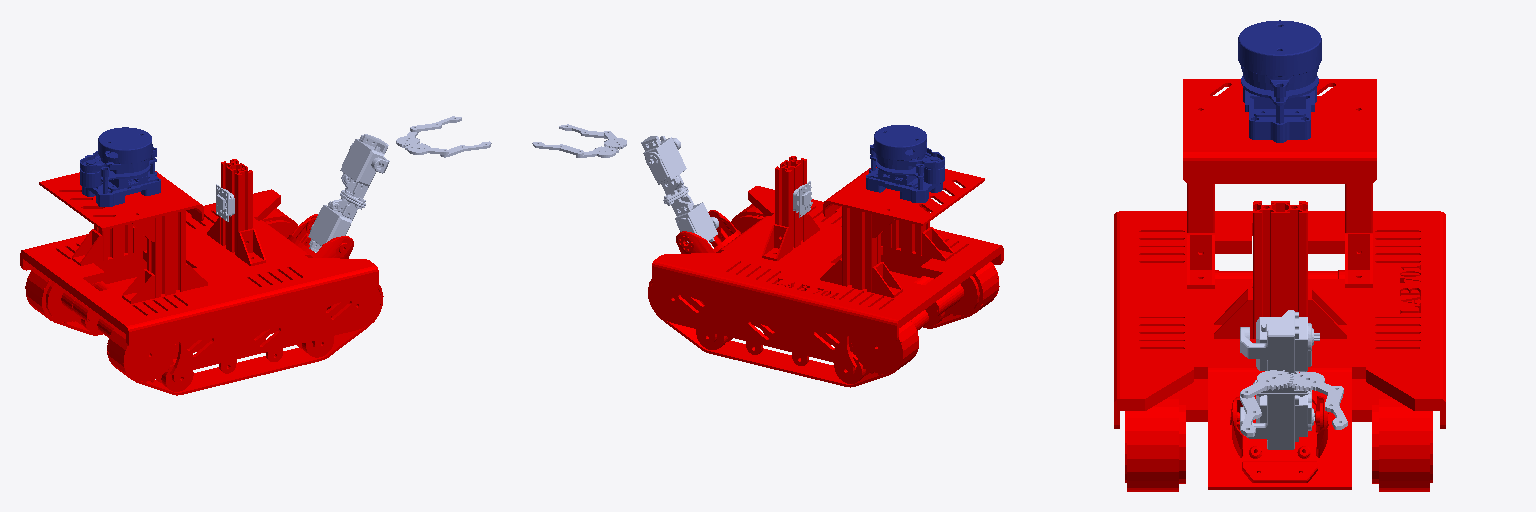
--- What the picture shows (computed from the rendered views, not written in the file) ---
The picture shows the robot from 3 angles, left to right: view 1: azimuth 30°, elevation 25°; view 2: azimuth 150°, elevation 25°; view 3: azimuth 270°, elevation 25°; orthographic projection.
Robot: tank_robot5 — 12 links, 11 joints (2 revolute, 6 continuous, 3 fixed); root link base_link; default pose: every joint at zero.
Links seen in each view (by area): view 1: base_link, lidar_link, link1_link, gripper_right_link, gripper_left_link, gps_link; view 2: base_link, lidar_link, link1_link, gripper_left_link, gripper_right_link; view 3: base_link, lidar_link, link1_link, gripper_right_link, gripper_left_link.
Link boxes in pixels (x1,y1,x2,y2): base_link: (20, 159, 383, 395); lidar_link: (80, 127, 160, 206); link1_link: (308, 134, 389, 252); gripper_right_link: (405, 141, 491, 157); gripper_left_link: (396, 116, 461, 147); gps_link: (216, 184, 234, 221); base_link: (648, 156, 1003, 387); lidar_link: (866, 125, 944, 202); link1_link: (641, 136, 718, 246); gripper_left_link: (532, 142, 618, 157); gripper_right_link: (559, 124, 626, 149); base_link: (1114, 79, 1445, 491); lidar_link: (1238, 20, 1321, 142); link1_link: (1240, 310, 1319, 449); gripper_right_link: (1240, 370, 1293, 436); gripper_left_link: (1291, 372, 1347, 429).
Bounding box of the posed robot: 0.5259 × 0.24 × 0.2713 m (x, y, z).
Meshes: 12 distinct files referenced, 6 mesh visuals loaded (6 binary STL); not drawn: 6 (reference not matched to a file when rendering).

robot.urdf — tank_robot5:
<?xml version="1.0" encoding="utf-8"?>
<!-- This URDF was automatically created by SolidWorks to URDF Exporter! Originally created by Stephen Brawner ([email redacted])
 	Commit Version: 1.6.0-4-g7f85cfe  Build Version: 1.6.7995.38578
 	For more information, please see http://wiki.ros.org/sw_urdf_exporter -->
<robot
  name="tank_robot5">

  <!-- Base link -->
  <link
	name="base_link">
	<inertial>
  	<origin
    	xyz="0.000101860296610273 0.000383653908917814 0.077831584172523"
    	rpy="0 0 0" />
  	<mass
    	value="2.09733338044362" />
  	<inertia
    	ixx="0.00658871302788378"
    	ixy="-6.33493412731475E-06"
    	ixz="0.000279659251384072"
    	iyy="0.0119849438490807"
    	iyz="1.71666235498634E-06"
    	izz="0.0173418955344604" />
	</inertial>
	<visual>
  	<origin
    	xyz="0 0 0"
    	rpy="0 0 0" />
  	<geometry>
    	<mesh
      	filename="package://tank_robot5/meshes/base_link.STL" />
  	</geometry>
  	<material
    	name="">
    	<color
      	rgba="1 0 0 1" />
  	</material>
	</visual>
	<collision>
  	<origin
    	xyz="0 0 0"
    	rpy="0 0 0" />
  	<geometry>
    	<mesh
      	filename="package://tank_robot5/meshes/base_link.STL" />
  	</geometry>
	</collision>
  </link>
 <gazebo reference="base_link">
  <material>Gazebo/Green</material>
</gazebo>

 
  <!-- wheel left1 -->
  <link
	name="wheel_left1_link">
	<inertial>
  	<origin
    	xyz="-5.55111512312578E-17 4.16333634234434E-17 0.0178230616302186"
    	rpy="0 0 0" />
  	<mass
    	value="0.0414808039998362" />
  	<inertia
    	ixx="1.26297041000083E-05"
    	ixy="-2.30093800126185E-38"
    	ixz="-3.52660070687731E-39"
    	iyy="1.26297041000083E-05"
    	iyz="-5.77601258280972E-22"
    	izz="1.23455181234334E-05" />
	</inertial>
	<visual>
  	<origin
    	xyz="0 0 0"
    	rpy="0 0 0" />
  	<geometry>
    	<mesh
      	filename="package://tank_robot5/meshes/wheel_left1_link.STL" />
  	</geometry>
  	<material
    	name="">
    	<color
      	rgba="0.792156862745098 0.819607843137255 0.933333333333333 1" />
  	</material>
	</visual>
	<collision>
  	<origin
    	xyz="0 0 0"
    	rpy="0 0 0" />
  	<geometry>
    	<mesh
      	filename="package://tank_robot5/meshes/wheel_left1_link.STL" />
  	</geometry>
	</collision>
  </link>
  
   <gazebo reference="wheel_left1_link">
  <material>Gazebo/Green</material>
</gazebo>


  <joint
	name="wheel_left1_joint"
	type="continuous">
	<origin
  	xyz="0.030040943208751 0.107 0.020999720595931"
  	rpy="1.5707963267949 0 0" />
	<parent
  	link="base_link" />
	<child
  	link="wheel_left1_link" />
	<axis
  	xyz="0 0 1" />
  </joint>
 
	<!-- wheel left2 -->
  <link
	name="wheel_left2_link">
	<inertial>
  	<origin
    	xyz="-2.77555756156289E-17 4.16333634234434E-16 0.0178230616302186"
    	rpy="0 0 0" />
  	<mass
    	value="0.0414808039998362" />
  	<inertia
    	ixx="1.26297041000083E-05"
    	ixy="-1.00317351992554E-22"
    	ixz="-1.58990528709187E-21"
    	iyy="1.26297041000083E-05"
    	iyz="4.75821462374673E-22"
    	izz="1.23455181234334E-05" />
	</inertial>
	<visual>
  	<origin
    	xyz="0 0 0"
    	rpy="0 0 0" />
  	<geometry>
    	<mesh
      	filename="package://tank_robot5/meshes/wheel_left2_link.STL" />
  	</geometry>
  	<material
    	name="">
    	<color
      	rgba="0.792156862745098 0.819607843137255 0.933333333333333 1" />
  	</material>
	</visual>
	<collision>
  	<origin
    	xyz="0 0 0"
    	rpy="0 0 0" />
  	<geometry>
    	<mesh
      	filename="package://tank_robot5/meshes/wheel_left2_link.STL" />
  	</geometry>
	</collision>
  </link>
  
     <gazebo reference="wheel_left2_link">
  <material>Gazebo/Green</material>
</gazebo>
  <joint
	name="wheel_left2_joint"
	type="continuous">
	<origin
  	xyz="-0.029959056791249 0.1065 0.0209997205959308"
  	rpy="1.5707963267949 0 0" />
	<parent
  	link="base_link" />
	<child
  	link="wheel_left2_link" />
	<axis
  	xyz="0 0 1" />
  </joint>
 
	<!-- wheel right1 -->
  <link
	name="wheel_right1_link">
	<inertial>
  	<origin
    	xyz="0 1.38777878078145E-17 -0.0171769383697813"
    	rpy="0 0 0" />
  	<mass
    	value="0.0414808039998362" />
  	<inertia
    	ixx="1.26297041000083E-05"
    	ixy="-2.67045944210272E-22"
    	ixz="-4.90527107634727E-22"
    	iyy="1.26297041000083E-05"
    	iyz="4.50151290698444E-22"
    	izz="1.23455181234334E-05" />
	</inertial>
	<visual>
  	<origin
    	xyz="0 0 0"
    	rpy="0 0 0" />
  	<geometry>
    	<mesh
      	filename="package://tank_robot5/meshes/wheel_right1_link.STL" />
  	</geometry>
  	<material
    	name="">
    	<color
      	rgba="0.792156862745098 0.819607843137255 0.933333333333333 1" />
  	</material>
	</visual>
	<collision>
  	<origin
    	xyz="0 0 0"
    	rpy="0 0 0" />
  	<geometry>
    	<mesh
      	filename="package://tank_robot5/meshes/wheel_right1_link.STL" />
  	</geometry>
	</collision>
  </link>
  
     <gazebo reference="wheel_right1_link">
  <material>Gazebo/Green</material>
</gazebo>


  <joint
	name="wheel_right1_joint"
	type="continuous">
	<origin
  	xyz="0.030040943208751 -0.107 0.020999720595931"
  	rpy="1.5707963267949 0 0" />
	<parent
  	link="base_link" />
	<child
  	link="wheel_right1_link" />
	<axis
  	xyz="0 0 1" />
  </joint>
 
	<!-- wheel right2 -->
  <link
	name="wheel_right2_link">
	<inertial>
  	<origin
    	xyz="8.32667268468867E-17 -2.77555756156289E-17 -0.0171769383697813"
    	rpy="0 0 0" />
  	<mass
    	value="0.0414808039998362" />
  	<inertia
    	ixx="1.26297041000083E-05"
    	ixy="-1.01609821699666E-22"
    	ixz="-4.9438728382664E-22"
    	iyy="1.26297041000083E-05"
    	iyz="4.50151290698444E-22"
    	izz="1.23455181234333E-05" />
	</inertial>
	<visual>
  	<origin
    	xyz="0 0 0"
    	rpy="0 0 0" />
  	<geometry>
    	<mesh
      	filename="package://tank_robot5/meshes/wheel_right2_link.STL" />
  	</geometry>
  	<material
    	name="">
    	<color
      	rgba="0.792156862745098 0.819607843137255 0.933333333333333 1" />
  	</material>
	</visual>
	<collision>
  	<origin
    	xyz="0 0 0"
    	rpy="0 0 0" />
  	<geometry>
    	<mesh
      	filename="package://tank_robot5/meshes/wheel_right2_link.STL" />
  	</geometry>
	</collision>
  </link>
  
      <gazebo reference="wheel_right2_link">
  <material>Gazebo/Green</material>
</gazebo>



  <joint
	name="wheel_right2_joint"
	type="continuous">
	<origin
  	xyz="-0.029959056791249 -0.106 0.0209997205959308"
  	rpy="1.5707963267949 0 0" />
	<parent
  	link="base_link" />
	<child
  	link="wheel_right2_link" />
	<axis
  	xyz="0 0 1" />
  </joint>
 
 
	<!-- link1 -->
  <link
	name="link1_link">
	<inertial>
  	<origin
    	xyz="0.0268208044691256 0.0422548226451087 0.0233110224033556"
    	rpy="0 0 0" />
  	<mass
    	value="0.0900303480349773" />
  	<inertia
    	ixx="2.98564994728307E-05"
    	ixy="-8.79866117290079E-06"
    	ixz="4.92242513586741E-08"
    	iyy="1.96056816874544E-05"
    	iyz="-2.82959641151995E-08"
    	izz="2.63103174477672E-05" />
	</inertial>
	<visual>
  	<origin
    	xyz="0 0 0"
    	rpy="0 0 0" />
  	<geometry>
    	<mesh
      	filename="package://tank_robot5/meshes/link1_link.STL" />
  	</geometry>
  	<material
    	name="">
    	<color
      	rgba="0.792156862745098 0.819607843137255 0.933333333333333 1" />
  	</material>
	</visual>
	<collision>
  	<origin
    	xyz="0 0 0"
    	rpy="0 0 0" />
  	<geometry>
    	<mesh
      	filename="package://tank_robot5/meshes/link1_link.STL" />
  	</geometry>
	</collision>
  </link>
 <gazebo reference="link1_link">
  <material>Gazebo/Red</material>
</gazebo>
 
  <joint
	name="link1_joint"
	type="continuous">
	<origin
  	xyz="0.16213799320936 0.0257504431070633 0.0906250725210088"
  	rpy="1.5707963267949 0 0" />
	<parent
  	link="base_link" />
	<child
  	link="link1_link" />
	<axis
  	xyz="0 0 1" />

    
  </joint>
 
	<!-- link2 -->
  <link
	name="link2_link">
	<inertial>
  	<origin
    	xyz="0.0469696818776463 0.00539981149525653 0.0466363137970451"
    	rpy="0 0 0" />
  	<mass
    	value="0.0351997519899185" />
  	<inertia
    	ixx="1.40032536971721E-05"
    	ixy="9.59419108470623E-08"
    	ixz="4.42810505923508E-07"
    	iyy="1.73430493338146E-05"
    	iyz="-3.23606739251796E-08"
    	izz="5.06044486180057E-06" />
	</inertial>
	<visual>
  	<origin
    	xyz="0 0 0"
    	rpy="0 0 0" />
  	<geometry>
    	<mesh
      	filename="package://tank_robot5/meshes/link2_link.STL" />
  	</geometry>
  	<material
    	name="">
    	<color
      	rgba="0.792156862745098 0.819607843137255 0.933333333333333 1" />
  	</material>
	</visual>
	<collision>
  	<origin
    	xyz="0 0 0"
    	rpy="0 0 0" />
  	<geometry>
    	<mesh
      	filename="package://tank_robot5/meshes/link2_link.STL" />
  	</geometry>
	</collision>
  </link>
  
  
<gazebo reference="link2_link">
  <material>Gazebo/Black</material>
</gazebo>
  <joint
	name="link2_joint"
	type="continuous">
	<origin
  	xyz="0.0498323547482368 0.0866991142990867 -0.0177499999999998"
  	rpy="0 0 0" />
	<parent
  	link="link1_link" />
	<child
  	link="link2_link" />
	<axis
  	xyz="0 0 1" />
  	

    
  </joint>
 
<!-- Right Gripper Link -->
<link name="gripper_right_link">
	<inertial>
  	<origin xyz="0.0258780432117297 0.00454477654115379 -0.00213316144660119" rpy="0 0 0" />
  	<mass value="0.00366991044442369" />
  	<inertia ixx="1.65372374888769E-07" ixy="3.71309728414862E-09" ixz="-1.99929536232398E-22"
           	iyy="7.74324288386045E-07" iyz="-8.83604007636615E-24" izz="9.34191797608178E-07" />
	</inertial>
	<visual>
  	<origin xyz="0 0.0112 0" rpy="0 0 0.2" />
  	<geometry>
    	<mesh filename="package://tank_robot5/meshes/gripper_right_link.STL" />
  	</geometry>
  	<material name="">
    	<color rgba="0.792156862745098 0.819607843137255 0.933333333333333 1" />
  	</material>
	</visual>
	<collision>
  	<origin xyz="0 0 0" rpy="0 0 0" />
  	<geometry>
    	<mesh filename="package://tank_robot5/meshes/gripper_right_link.STL" />
  	</geometry>
	</collision>
</link>

<!-- Left Gripper Link -->
<link name="gripper_left_link">
	<inertial>
  	<origin xyz="0.0237830032837864 -0.0111667752319355 -0.00283618320258641" rpy="0 0 0" />
  	<mass value="0.00366991044442369" />
  	<inertia ixx="2.0530457650203E-07" ixy="1.5078460448041E-07" ixz="-1.88750622816007E-22"
           	iyy="7.34392086772784E-07" iyz="1.16721204276473E-22" izz="9.34191797608178E-07" />
	</inertial>
	<visual>
  	<origin xyz="0 0 0" rpy="0 0 0" />
  	<geometry>
    	<mesh filename="package://tank_robot5/meshes/gripper_left_link.STL" />
  	</geometry>
  	<material name="">
    	<color rgba="0.792156862745098 0.819607843137255 0.933333333333333 1" />
  	</material>
	</visual>
	<collision>
  	<origin xyz="0 0 0" rpy="0 0 0" />
  	<geometry>
    	<mesh filename="package://tank_robot5/meshes/gripper_left_link.STL" />
  	</geometry>
	</collision>
</link>

<!-- Single Control Joint (Master Joint) -->
<joint name="gripper_control_joint" type="revolute">
	<origin xyz="0.0628189456741686 -0.00780808751750425 0.0359" rpy="1.5707963267949 0 -0.028978387988715" />
	<parent link="link2_link" />
	<child link="gripper_right_link" /> <!-- Right gripper attached here -->
	<axis xyz="0 0 1" /> <!-- Rotate around Z-axis -->
	<limit lower="-1.5708" upper="1.5708" effort="50" velocity="0.5" /> <!-- ±90° -->
</joint>

<!-- Left Gripper Joint (Mimic Joint) -->
<joint name="gripper_left_joint" type="revolute">
	<origin xyz="0.0628662736353975 -0.00682437348245404 0.0222749999999998" rpy="1.5707963267949 0 -0.028978387988715" />
	<parent link="link2_link" />
	<child link="gripper_left_link" />
	<axis xyz="0 0 1" /> <!-- Same direction, but mimic will invert it -->
	<limit lower="-1.5708" upper="1.5708" effort="50" velocity="0.5" /> <!-- ±90° -->
	<!-- Mimic gripper_control_joint with opposite rotation -->
	<mimic joint="gripper_control_joint" multiplier="-1.0" offset="0.0" />
</joint>



  <link
	name="camera_link">
	<inertial>
  	<origin
    	xyz="0.00697855527730011 -1.06579532171414E-05 0.012468333507948"
    	rpy="0 0 0" />
  	<mass
    	value="0.107910438139434" />
  	<inertia
    	ixx="7.12550253062255E-05"
    	ixy="2.33932196779487E-08"
    	ixz="-4.92986158651601E-08"
    	iyy="7.71002569801307E-06"
    	iyz="2.44769054882994E-10"
    	izz="7.02567402877273E-05" />
	</inertial>
	<visual>
  	<origin
    	xyz="0 0 0"
    	rpy="0 0 0" />
  	<geometry>
    	<mesh
      	filename="package://tank_robot5/meshes/camera_link.STL" />
  	</geometry>
  	<material
    	name="">
    	<color
      	rgba="0.898039215686275 0.917647058823529 0.929411764705882 1" />
  	</material>
	</visual>
	<collision>
  	<origin
    	xyz="0 0 0"
    	rpy="0 0 0" />
  	<geometry>
    	<mesh
      	filename="package://tank_robot5/meshes/camera_link.STL" />
  	</geometry>
	</collision>
  </link>
  
      <gazebo reference="camera_link">
  <material>Gazebo/Blue</material>
</gazebo>

  <joint
	name="camera_joint"
	type="fixed">
	<origin
  	xyz="0.0398464983353151 -0.00077408377455257 0.227605789912602"
  	rpy="0 0 0" />
	<parent
  	link="base_link" />
	<child
  	link="camera_link" />
	<axis
  	xyz="0 0 0" />
  </joint>
  <link
	name="lidar_link">
	<inertial>
  	<origin
    	xyz="-0.00712869032004082 2.01051559332588E-05 -0.0398485169669899"
    	rpy="0 0 0" />
  	<mass
    	value="0.0988519659696647" />
  	<inertia
    	ixx="2.01670226712523E-05"
    	ixy="1.77520034791046E-08"
    	ixz="-2.26332784491913E-06"
    	iyy="5.01382792579843E-05"
    	iyz="7.53617057520781E-09"
    	izz="6.58296362275907E-05" />
	</inertial>
	<visual>
  	<origin
    	xyz="0 0 0"
    	rpy="0 0 0" />
  	<geometry>
    	<mesh
      	filename="package://tank_robot5/meshes/lidar_link.STL" />
  	</geometry>
  	<material
    	name="">
    	<color
      	rgba="0.188235294117647 0.231372549019608 0.588235294117647 1" />
  	</material>
	</visual>
	<collision>
  	<origin
    	xyz="0 0 0"
    	rpy="0 0 0" />
  	<geometry>
    	<mesh
      	filename="package://tank_robot5/meshes/lidar_link.STL" />
  	</geometry>
	</collision>
  </link>
  <joint
	name="lidar_joint"
	type="fixed">
	<origin
  	xyz="-0.0976627823325977 0.000970509112063533 0.271318441191774"
  	rpy="0 0 0" />
	<parent
  	link="base_link" />
	<child
  	link="lidar_link" />
	<axis
  	xyz="0 0 0" />
  </joint>
  <link
	name="gps_link">
	<inertial>
  	<origin
    	xyz="0.00710120952678969 0.00194546696155284 0.000109480095992986"
    	rpy="0 0 0" />
  	<mass
    	value="0.00492734269723872" />
  	<inertia
    	ixx="5.30721988277249E-07"
    	ixy="-1.25162605765906E-09"
    	ixz="-5.82609648436738E-10"
    	iyy="2.50348487806842E-07"
    	iyz="4.052528259813E-09"
    	izz="2.92177952785927E-07" />
	</inertial>
	<visual>
  	<origin
    	xyz="0 0 0"
    	rpy="0 0 0" />
  	<geometry>
    	<mesh
      	filename="package://tank_robot5/meshes/gps_link.STL" />
  	</geometry>
  	<material
    	name="">
    	<color
      	rgba="0.792156862745098 0.819607843137255 0.933333333333333 1" />
  	</material>
	</visual>
	<collision>
  	<origin
    	xyz="0 0 0"
    	rpy="0 0 0" />
  	<geometry>
    	<mesh
      	filename="package://tank_robot5/meshes/gps_link.STL" />
  	</geometry>
	</collision>
  </link>
  
    <gazebo reference="gps_link">
  <material>Gazebo/White</material>
</gazebo>
  <joint
	name="gps_joint"
	type="fixed">
	<origin
  	xyz="0.023148376737541 0.000897373531776158 0.165070035372167"
  	rpy="-1.5707963267949 0 0" />
	<parent
  	link="base_link" />
	<child
  	link="gps_link" />
	<axis
  	xyz="0 0 0" />
  </joint>
 
 
 
 
<gazebo> 
  <!-- Bắt đầu khai báo cấu hình cho Gazebo -->
  
  <plugin name="gps_plugin" filename="libhector_gazebo_ros_gps.so"> 
    <!-- Khai báo plugin GPS sử dụng thư viện "libhector_gazebo_ros_gps.so" -->
    
    <alwaysOn>true</alwaysOn> 
    <!-- Luôn kích hoạt plugin GPS, ngay cả khi không có client nào subscribe -->

    <updateRate>10.0</updateRate> 
    <!-- Tần suất cập nhật dữ liệu GPS là 10 Hz (10 lần/giây) -->

    <bodyName>base_link</bodyName> 
    <!-- Xác định liên kết (link) mà cảm biến GPS gắn vào (ở đây là "base_link") -->
    
    <topicName>/gps/fix</topicName> 
    <!-- Tên topic ROS xuất ra dữ liệu vị trí GPS (kiểu sensor_msgs/NavSatFix) -->

    <velocityTopicName>/gps/fix_velocity</velocityTopicName> 
    <!-- Tên topic ROS xuất ra dữ liệu vận tốc (kiểu geometry_msgs/Vector3Stamped) -->
    
    <referenceLatitude>21.028511</referenceLatitude> 
    <!-- Giá trị vĩ độ gốc (ở đây là 21.028511 - tọa độ ở Hà Nội, Việt Nam) -->
    
    <referenceLongitude>105.804817</referenceLongitude> 
    <!-- Giá trị kinh độ gốc (ở đây là 105.804817 - tọa độ ở Hà Nội, Việt Nam) -->

    <referenceAltitude>10.0</referenceAltitude> 
    <!-- Độ cao gốc so với mực nước biển (10 mét) -->

    <drift>0.001 0.001 0.001</drift> 
    <!-- Mô phỏng độ lệch (trôi) của tín hiệu GPS theo các trục X, Y, Z (đơn vị: mét) -->

    <gaussianNoise>0.05 0.05 0.05</gaussianNoise> 
    <!-- Mô phỏng nhiễu Gauss (ngẫu nhiên) trên các trục X, Y, Z (đơn vị: mét) -->
    
  </plugin> 
  <!-- Kết thúc khai báo plugin GPS -->
  
</gazebo> 
<!-- Kết thúc phần cấu hình cho Gazebo -->


<gazebo reference="lidar_link">
   <material>Gazebo/FlatBlack</material>
   
   <sensor type="ray" name="head_rplidar_sensor">
      <pose>0 0 0 0 0 0</pose>
      <visualize>true</visualize>
      <update_rate>10.0</update_rate> <!-- Giảm xuống 10 Hz -->
      
      <ray>
         <scan>
            <horizontal>
               <samples>360</samples> <!-- Tăng lên 360 mẫu -->
               <resolution>1</resolution>
               <min_angle>-1.5708</min_angle>
               <max_angle>1.5708</max_angle>
            </horizontal>
         </scan>
         
         <range>
            <min>0.120</min>
            <max>10</max>
            <resolution>0.015</resolution>
         </range>
      </ray>
      
      <plugin name="gazebo_ros_head_rplidar_controller" filename="libgazebo_ros_laser.so">
         <topicName>scan</topicName>
         <frameName>lidar_link</frameName>
         <gaussianNoise>0.01</gaussianNoise>
      </plugin>
   </sensor>
</gazebo>
<!-- Plugin Camera -->
<gazebo reference="camera_link">  <!-- Gắn cảm biến vào liên kết (link) có tên 'camera_link' -->
  <sensor type="camera" name="camera_sensor"> <!-- Khai báo một cảm biến loại camera với tên 'camera_sensor' -->
    
    <update_rate>30</update_rate> <!-- Tần suất cập nhật của camera là 30 Hz (30 khung hình/giây) -->
    
    <camera> <!-- Bắt đầu cấu hình các thông số cho camera -->
      
      <horizontal_fov>1.3962634</horizontal_fov> <!-- Góc nhìn ngang (Field of View) là 1.3962634 rad (~80 độ) -->
      
      <image> <!-- Cài đặt thông số ảnh mà camera chụp được -->
        <width>640</width> <!-- Chiều rộng ảnh là 640 pixel -->
        <height>480</height> <!-- Chiều cao ảnh là 480 pixel -->
        <format>R8G8B8</format> <!-- Định dạng ảnh là RGB (8-bit cho mỗi kênh màu: đỏ, lục, lam) -->
      </image>
      
    </camera> <!-- Kết thúc cấu hình camera -->
    
    <!-- Cấu hình plugin ROS cho camera -->
    <plugin name="camera_controller" filename="libgazebo_ros_camera.so"> 
      <!-- 'name' là tên plugin, 'filename' là file thư viện động (.so) giúp camera giao tiếp với ROS -->
      
      <alwaysOn>true</alwaysOn> <!-- Camera luôn hoạt động (không bị tắt khi không cần thiết) -->
      
      <updateRate>30.0</updateRate> <!-- Tần suất gửi dữ liệu hình ảnh là 30 Hz -->
      
      <cameraName>my_camera</cameraName> <!-- Tên camera được sử dụng trong ROS -->
      
      <frameName>camera_link</frameName> <!-- Tên frame (hệ tọa độ) gắn với camera -->
      
      <imageTopicName>/camera/image_raw</imageTopicName> <!-- Topic ROS phát hình ảnh thô (raw image) -->
      
      <cameraInfoTopicName>/camera/camera_info</cameraInfoTopicName> <!-- Topic ROS phát thông tin hiệu chỉnh camera -->
      
    </plugin> <!-- Kết thúc cấu hình plugin ROS -->
    
    <pose>0 0 0 0 0 0</pose> <!-- Vị trí và hướng của camera so với 'camera_link':
                                (x, y, z, roll, pitch, yaw) = (0, 0, 0, 0, 0, 0) -->
  </sensor> <!-- Kết thúc khai báo cảm biến camera -->
</gazebo> <!-- Kết thúc cấu hình cho Gazebo -->

 
<gazebo>
  <plugin name="diff_drive_controller" filename="libgazebo_ros_diff_drive.so">
    <!-- Bật xuất bản TF từ plugin để tạo TF odom -> base_link -->
    <publishTf>true</publishTf>

    <!-- ROS namespace và remap topic -->
    <ros>
      <namespace>/</namespace> <!-- Namespace mặc định là root -->
      <remap from="cmd_vel" to="/cmd_vel"/> <!-- Remap topic cmd_vel -->
      <remapping>odom:=/odom</remapping>
      <rosDebugLevel>INFO</rosDebugLevel> <!-- Mức log: INFO -->
    </ros>

    <!-- Khai báo joint bánh xe (Chỉ chọn 1 joint cho mỗi bên) -->
    <leftJoint>wheel_left1_joint</leftJoint> <!-- Joint bánh xe trái -->
    <rightJoint>wheel_right1_joint</rightJoint> <!-- Joint bánh xe phải -->
    <leftJoint>wheel_left2_joint</leftJoint> <!-- Joint bánh xe trái -->
    <rightJoint>wheel_right2_joint</rightJoint> <!-- Joint bánh xe phải -->
    <!-- Thông số bánh xe -->
    <wheelSeparation>0.1566</wheelSeparation> <!-- Khoảng cách giữa hai bánh xe -->
    <wheelDiameter>0.07</wheelDiameter> <!-- Đường kính bánh xe -->
    <wheelAcceleration>1.0</wheelAcceleration> <!-- Gia tốc tối đa -->
    <wheelTorque>10</wheelTorque> <!-- Mô-men xoắn tối đa -->
    <velocityDecay>0.1</velocityDecay> <!-- Giúp giảm trượt bánh xe -->

    <!-- Chủ đề và khung TF liên quan đến robot -->
    <commandTopic>/cmd_vel</commandTopic> <!-- Nhận lệnh vận tốc -->
    <odometryTopic>/odom</odometryTopic> <!-- Xuất dữ liệu odometry -->
    <odometryFrame>odom</odometryFrame> <!-- Khung odometry -->
    <robotBaseFrame>base_link</robotBaseFrame> <!-- Khung gốc của robot -->

    <!-- Xuất dữ liệu TF và trạng thái joint -->
    <publishOdom>true</publishOdom> <!-- Xuất bản dữ liệu odometry -->
    <publishOdomTF>true</publishOdomTF> <!-- Xuất TF từ odom đến base_link -->
    <publishWheelTF>false</publishWheelTF> <!-- Không xuất TF cho bánh xe -->
    <publishWheelJointState>true</publishWheelJointState> <!-- Xuất joint state -->

    <!-- Tần số cập nhật plugin -->
    <updateRate>50</updateRate> <!-- Giảm xuống 50Hz để tránh quá tải -->

    <!-- Cấu hình nguồn dữ liệu odometry -->
    <odometrySource>encoder</odometrySource> <!-- Sử dụng encoder -->

    <!-- Chế độ tương thích để tránh lỗi với phiên bản mới -->
    <legacyMode>false</legacyMode>
  </plugin>
</gazebo>



    <!-- Truyền động (Transmission) cho khớp link1 -->
<transmission name="link1_joint_transmission">
    <!-- Kiểu truyền động đơn giản (SimpleTransmission) -->
    <type>transmission_interface/SimpleTransmission</type>

    <!-- Khai báo khớp (joint) link1_joint -->
    <joint name="link1_joint">
        <!-- Giao diện phần cứng: Điều khiển vị trí (PositionJointInterface) -->
        <hardwareInterface>hardware_interface/PositionJointInterface</hardwareInterface>
    </joint>

    <!-- Khai báo bộ chấp hành (actuator) link1_servo -->
    <actuator name="link1_servo">
        <!-- Tỉ lệ giảm cơ khí: 1.0 (không giảm tốc) -->
        <mechanicalReduction>1.0</mechanicalReduction>
        <!-- <hardwareInterface>hardware_interface/PositionJointInterface</hardwareInterface> -->
    </actuator>
</transmission>

<!-- Truyền động cho khớp link2 -->
<transmission name="link2_joint_transmission">
    <!-- Kiểu truyền động đơn giản -->
    <type>transmission_interface/SimpleTransmission</type>

    <!-- Khai báo khớp link2_joint -->
    <joint name="link2_joint">
        <!-- Điều khiển vị trí của khớp -->
        <hardwareInterface>hardware_interface/PositionJointInterface</hardwareInterface>
    </joint>

    <!-- Khai báo bộ chấp hành link2_servo -->
    <actuator name="link2_servo">
        <!-- Tỉ lệ giảm cơ khí: 1.0 (không giảm tốc) -->
        <mechanicalReduction>1.0</mechanicalReduction>
        <!-- <hardwareInterface>hardware_interface/PositionJointInterface</hardwareInterface> -->
    </actuator>
</transmission>

<!-- Truyền động cho khớp điều khiển Gripper -->
<transmission name="gripper_transmission">
    <!-- Kiểu truyền động đơn giản -->
    <type>transmission_interface/SimpleTransmission</type>

    <!-- Khai báo khớp gripper_control_joint -->
    <joint name="gripper_control_joint">
        <!-- Điều khiển vị trí của khớp -->
        <hardwareInterface>PositionJointInterface</hardwareInterface>
    </joint>

    <!-- Khai báo bộ chấp hành gripper_motor -->
    <actuator name="gripper_motor">
        <!-- Tỉ lệ giảm cơ khí: 1 (không giảm tốc) -->
        <mechanicalReduction>1</mechanicalReduction>
    </actuator>
</transmission>

<!-- Truyền động cho khớp Gripper bên trái -->
<transmission name="gripper_left_transmission">
    <!-- Kiểu truyền động đơn giản -->
    <type>transmission_interface/SimpleTransmission</type>

    <!-- Khai báo khớp gripper_left_joint -->
    <joint name="gripper_left_joint">
        <!-- Điều khiển vị trí của khớp -->
        <hardwareInterface>hardware_interface/PositionJointInterface</hardwareInterface>
    </joint>

    <!-- Khai báo bộ chấp hành gripper_left_motor -->
    <actuator name="gripper_left_motor">
        <!-- Tỉ lệ giảm cơ khí: 1.0 (không giảm tốc) -->
        <mechanicalReduction>1.0</mechanicalReduction>
    </actuator>
</transmission>

<!-- Plugin ros_control để kết nối Gazebo với ROS -->
<gazebo>
    <!-- Khai báo plugin gazebo_ros_control -->
    <plugin name="gazebo_ros_control" filename="libgazebo_ros_control.so">
        <!-- Thiết lập không gian tên của robot -->
        <robotNamespace>/</robotNamespace>
    </plugin>
</gazebo>

</robot>
